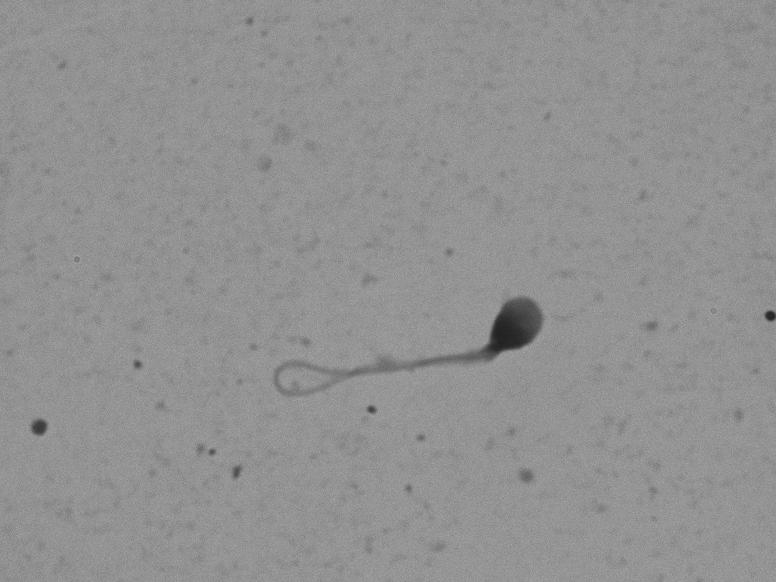Abnormal: (251, 271, 584, 432)
